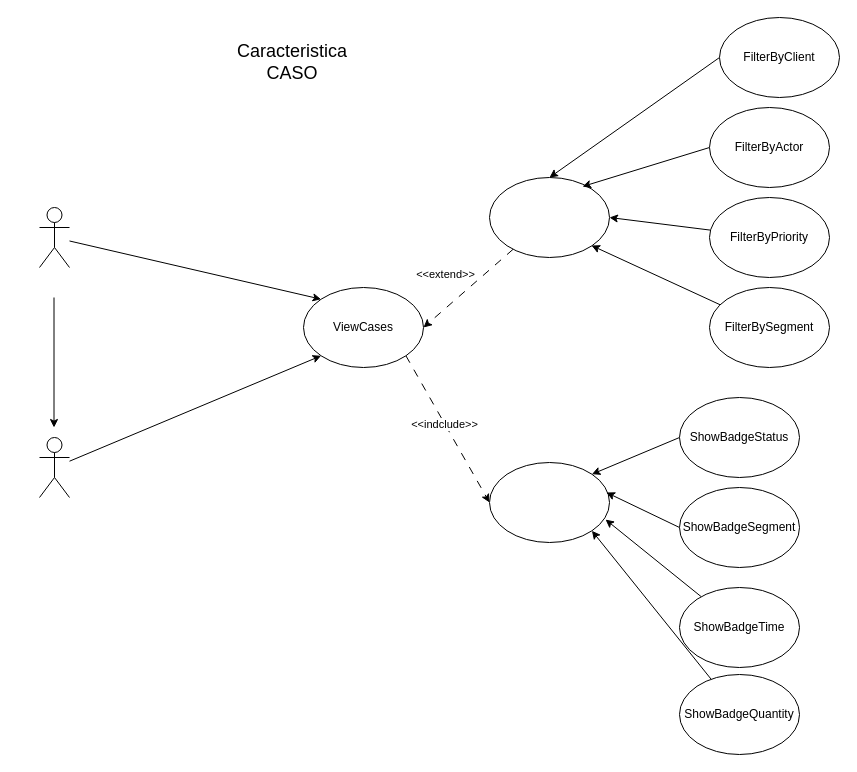
The diagram is 857 pixels wide and 772 high, and some of its shapes have lost their labels. Here are the shapes that lost their labels. From the top down, the box of each, then its label:
(38, 206, 70, 268): Administrador
(488, 176, 610, 258): FilterCases
(38, 436, 70, 498): Técnico
(488, 462, 610, 542): ShowBadges
